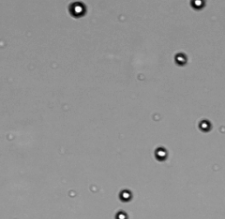Living Cell: (68, 1, 87, 18), (173, 51, 189, 67), (118, 187, 133, 202), (198, 118, 212, 133), (154, 146, 169, 160), (188, 1, 206, 9)
